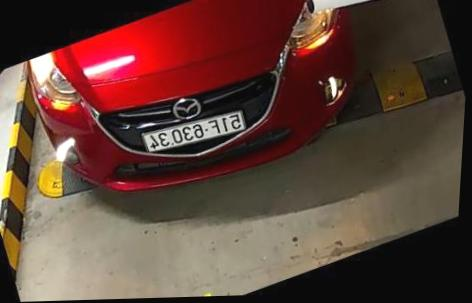License_Plate: (137, 107, 247, 168)
